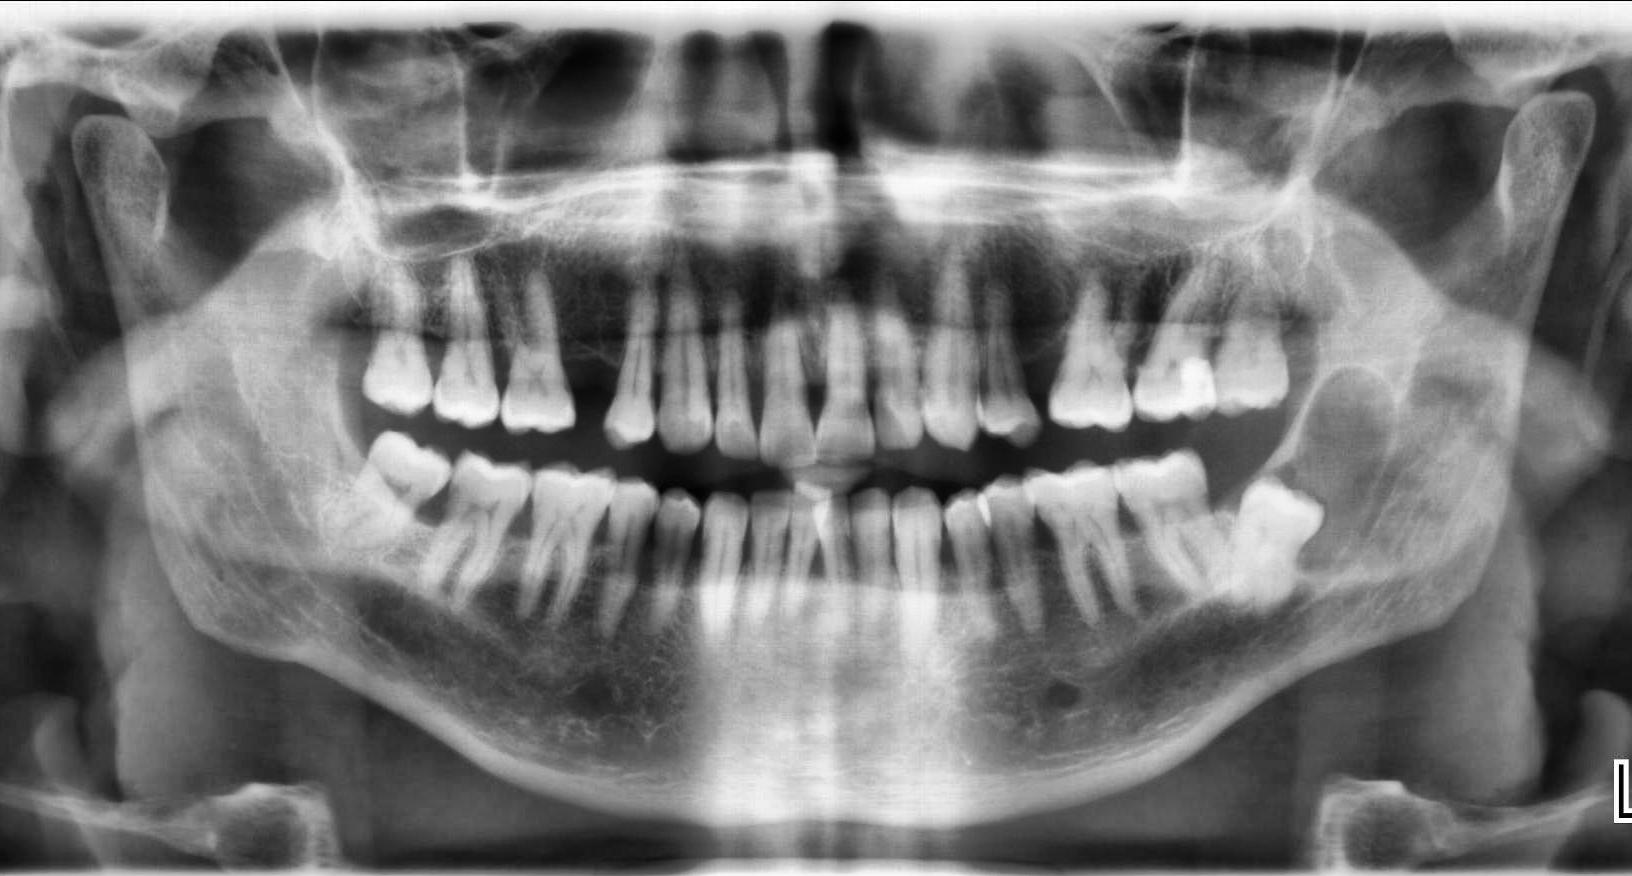dentigeroz: (1237, 364, 1400, 578)
